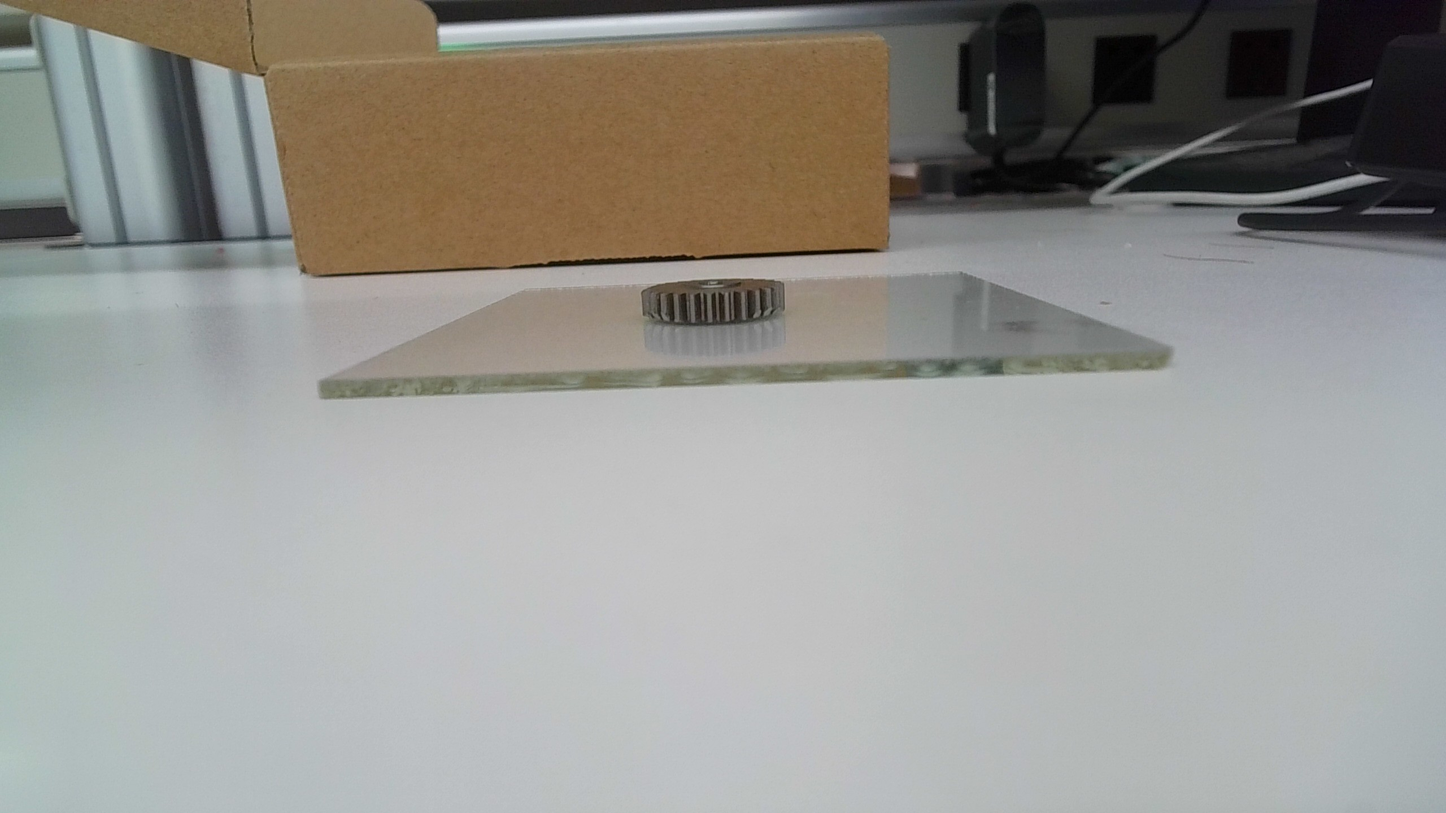gear: (641, 277, 789, 327)
